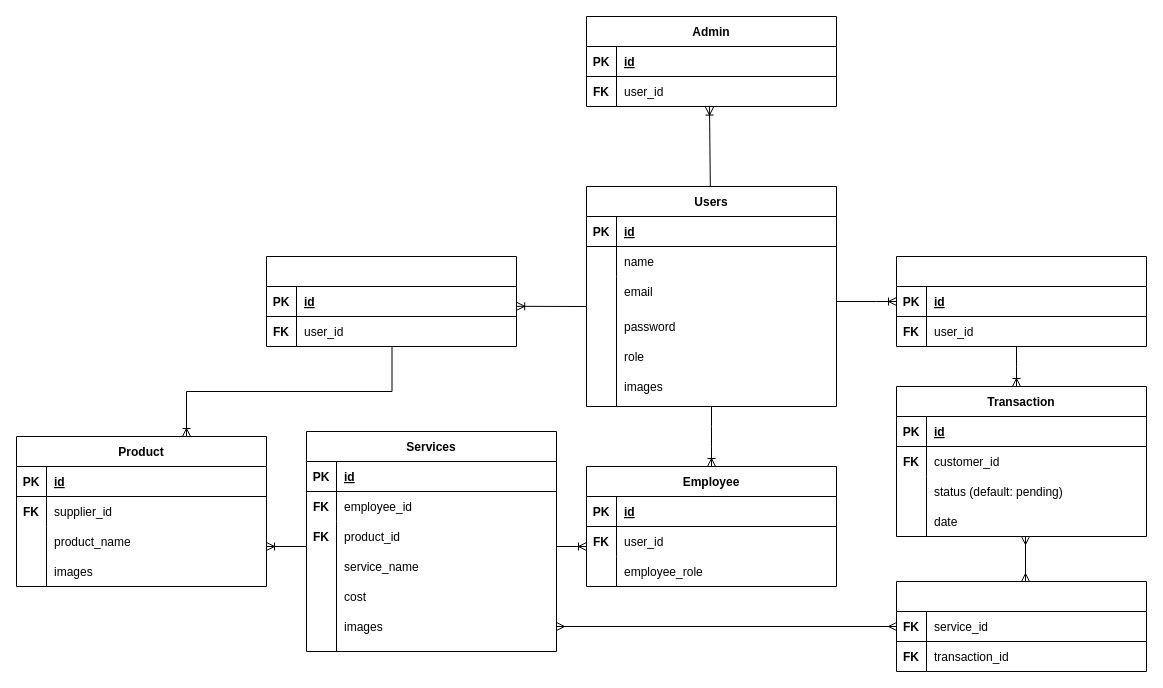
Image size: 1163x688. Some labels were removed from this diagram. The box of each missing label's shape, as (x1, y1, x2, y2) in pixels:
Customer: (896, 256, 1146, 346)
Supplier: (266, 256, 516, 346)
Transaction_line: (896, 580, 1146, 672)
